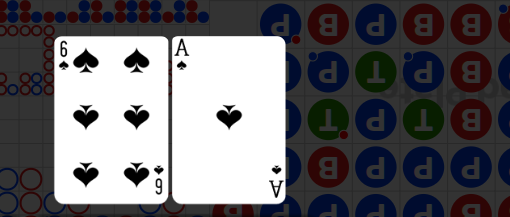6S: (58, 40, 71, 73)
AS: (267, 162, 284, 199)
